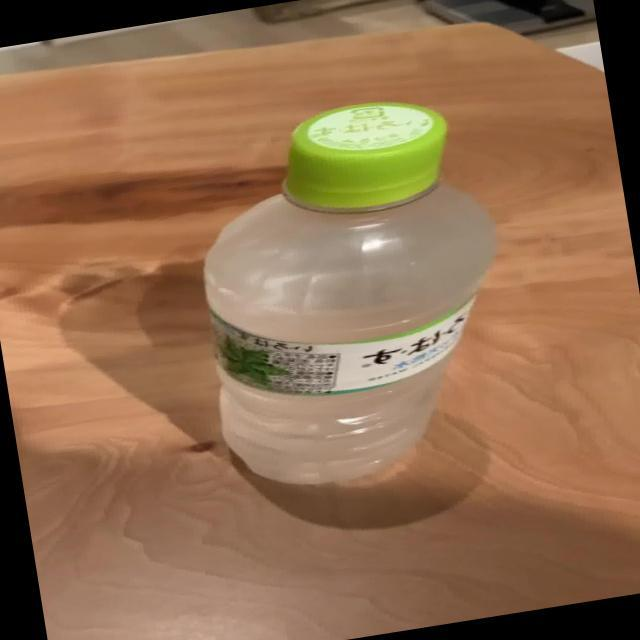good: (165, 81, 536, 502)
